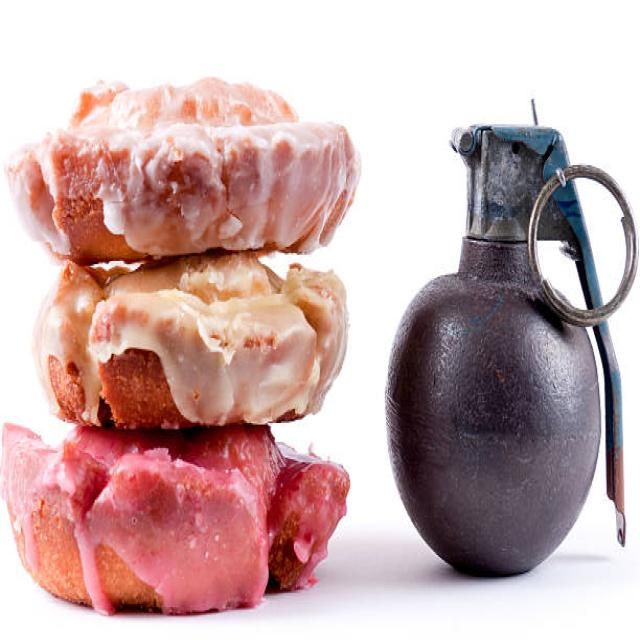grenade: (376, 88, 640, 589)
